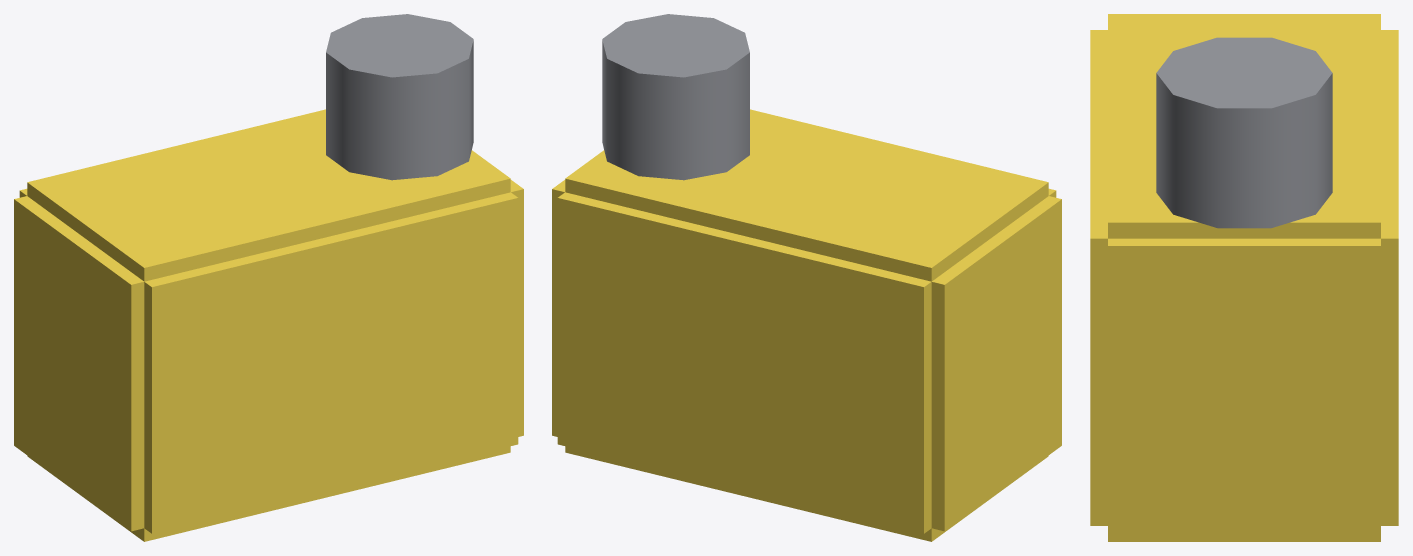
Rendered from generator.glb.
The picture shows the model from 3 angles, left to right: view 1: azimuth 30°, elevation 25°; view 2: azimuth 150°, elevation 25°; view 3: azimuth 270°, elevation 25°; orthographic projection. The views are drawn at different scales.
Visible parts, largest first — view 1: generator; view 2: generator; view 3: generator.
Part boxes in pixels (<box>): generator: <box>14,14,523,541</box>; generator: <box>552,14,1061,541</box>; generator: <box>1090,14,1398,541</box>.
Size of the model in its own units: 1.2 by 1.1 by 0.7.
